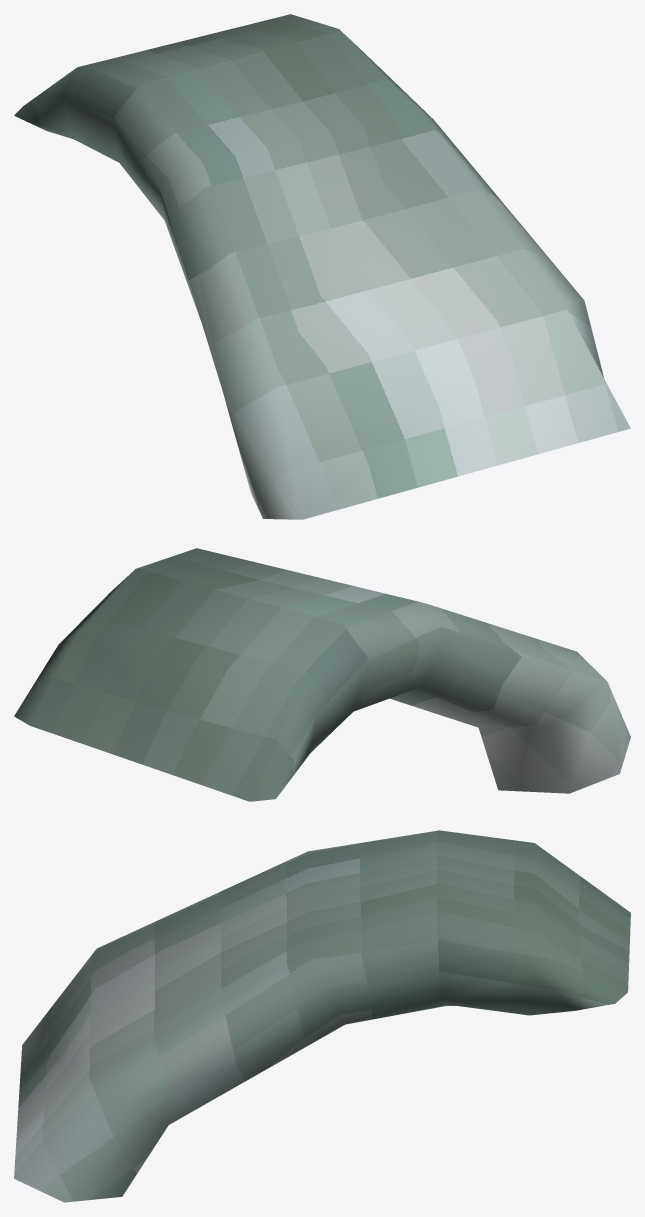
Rendered from vanilla_lod_waterfalls_fxwaterfallbodyslope_lod-8aa9d813.glb.
3 views of the same model, one above another, from view 1: azimuth 30°, elevation 25°; view 2: azimuth 150°, elevation 25°; view 3: azimuth 270°, elevation 25° (orthographic). The views are drawn at different scales.
Visible parts, largest first — view 1: es|FXWaterfallBodySlopeMesh01.001; view 2: es|FXWaterfallBodySlopeMesh01.001; view 3: es|FXWaterfallBodySlopeMesh01.001.
Boxes of the visible parts, box(x1,y1,x2,y2) form: es|FXWaterfallBodySlopeMesh01.001: box(14, 14, 630, 519); es|FXWaterfallBodySlopeMesh01.001: box(14, 548, 630, 801); es|FXWaterfallBodySlopeMesh01.001: box(14, 830, 630, 1202).
Size of the model in its own units: 12.15 by 9.19 by 19.03.
Materials: 1 (1 with a texture image).
